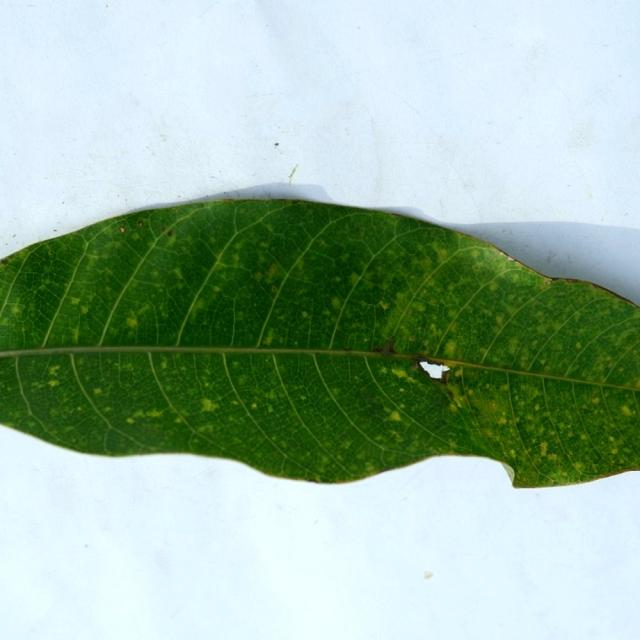Mango: (0, 199, 639, 486)
Powdery_Mildew: (197, 396, 220, 417), (260, 263, 279, 280), (390, 365, 409, 378), (262, 328, 276, 345), (434, 247, 449, 262), (190, 298, 206, 312), (444, 340, 458, 355), (450, 395, 464, 409), (507, 338, 520, 353), (145, 408, 164, 418), (196, 423, 215, 433), (348, 273, 361, 287), (387, 410, 401, 421), (173, 268, 185, 280), (70, 328, 79, 344), (126, 317, 138, 328), (331, 298, 342, 310), (413, 303, 426, 313), (620, 405, 632, 415), (558, 469, 570, 479), (264, 224, 275, 234), (48, 365, 60, 374), (47, 380, 60, 388), (495, 315, 505, 325), (230, 253, 240, 263), (364, 462, 375, 471), (539, 442, 547, 454), (121, 363, 133, 371), (159, 360, 168, 370), (70, 297, 81, 305), (455, 368, 464, 377), (379, 302, 389, 310), (11, 305, 21, 313), (498, 417, 507, 425), (80, 305, 88, 314), (212, 285, 221, 293), (322, 309, 331, 317), (93, 388, 103, 395), (237, 311, 245, 319), (430, 324, 438, 332), (490, 402, 498, 410), (159, 226, 167, 234), (548, 453, 557, 460), (125, 418, 135, 424), (301, 311, 309, 318), (267, 405, 274, 413), (498, 250, 506, 257), (544, 279, 553, 285), (575, 342, 582, 349), (271, 286, 278, 293), (502, 384, 509, 391), (119, 226, 126, 233), (166, 230, 173, 237), (250, 403, 258, 409), (398, 403, 406, 409), (510, 449, 516, 457), (507, 256, 515, 262), (534, 404, 540, 411), (581, 434, 588, 440), (539, 359, 546, 365), (409, 335, 416, 341), (609, 435, 615, 441), (300, 395, 306, 401), (176, 418, 182, 424), (232, 400, 239, 405), (486, 384, 492, 389), (233, 362, 239, 367), (501, 413, 506, 418), (568, 452, 573, 457)
